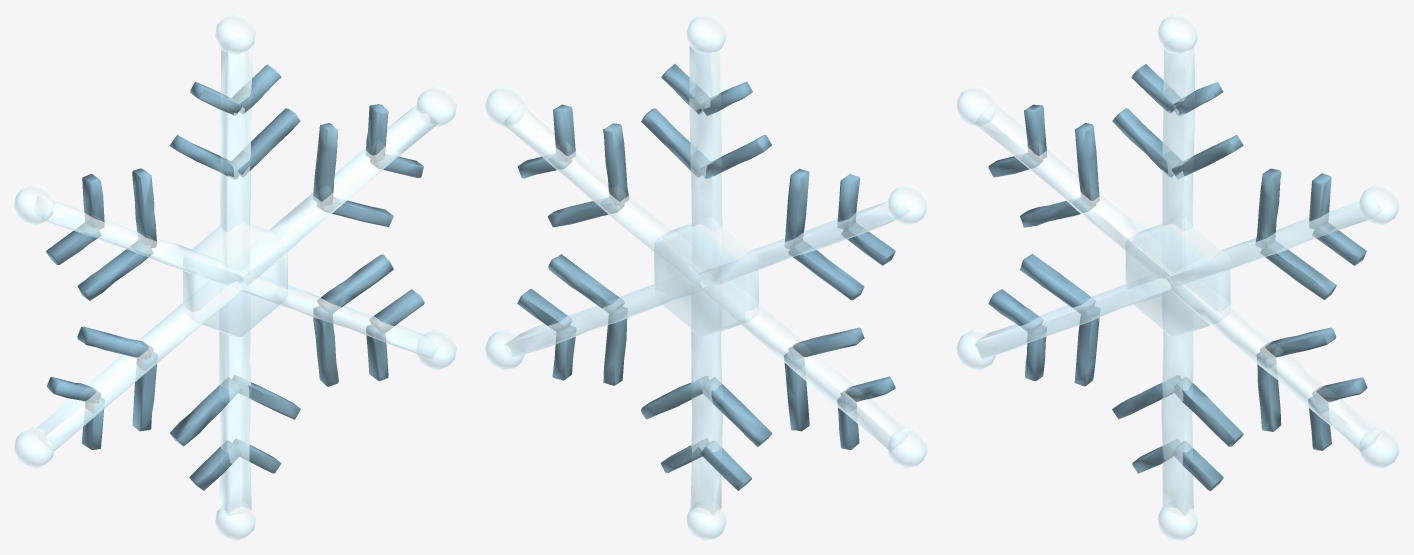
Rendered from frost_snowflake_lod1.glb.
The picture shows the model from 3 angles, left to right: view 1: azimuth 30°, elevation 25°; view 2: azimuth 150°, elevation 25°; view 3: azimuth 330°, elevation 25°; orthographic projection.
Visible parts, largest first — view 1: frost_snowflake.001; view 2: frost_snowflake.001; view 3: frost_snowflake.001.
Boxes of the visible parts, x1=… form: frost_snowflake.001: x1=14, y1=14, x2=456, y2=540; frost_snowflake.001: x1=485, y1=14, x2=927, y2=540; frost_snowflake.001: x1=956, y1=14, x2=1399, y2=540.
Bounding box in the file's own units: 10.47 × 12 × 0.864.
